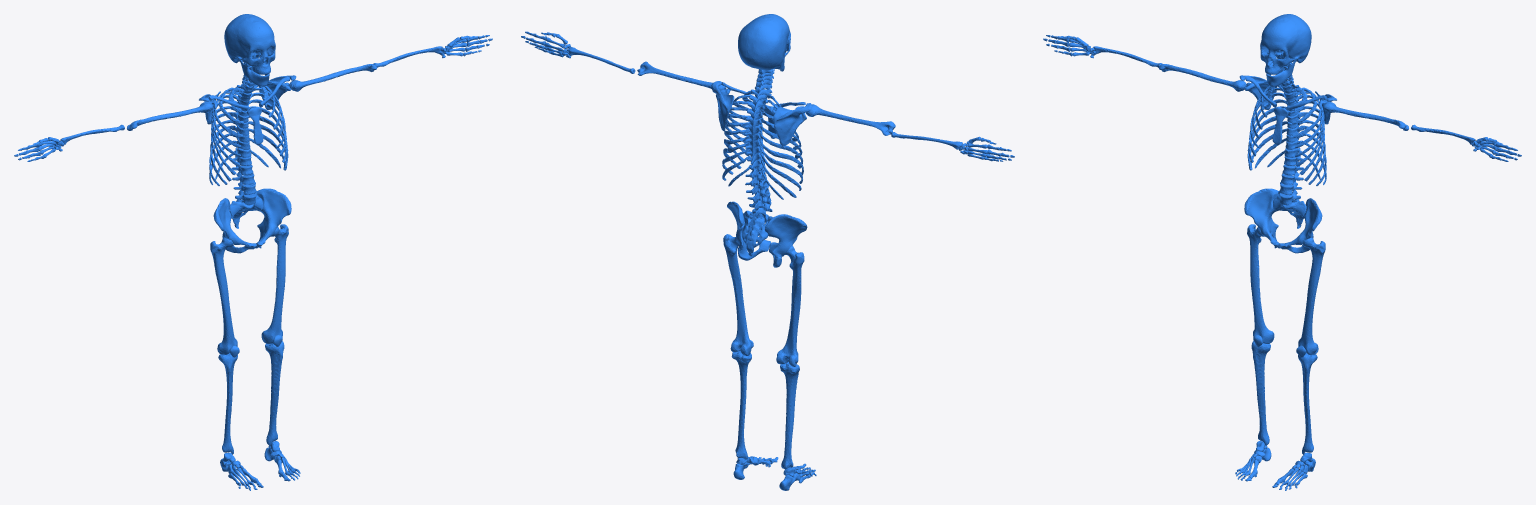
File: standard_blue_female.obj
3 views of the same model, side by side, from view 1: azimuth 30°, elevation 25°; view 2: azimuth 150°, elevation 25°; view 3: azimuth 330°, elevation 25° (orthographic). The views are drawn at different scales.
Parts seen in each view (by area): view 1: Head, Femur_R, Femur_L, Pelvis_L, Tibia_L, Pelvis_R, Tibia_R, Humerus_L, Humerus_R; view 2: Head, Femur_R, Femur_L, Pelvis_R, Tibia_R, Scapula_R, Tibia_L, Sacrum, Pelvis_L, Humerus_R, Scapula_L, Humerus_L; view 3: Head, Femur_L, Femur_R, Pelvis_R, Tibia_R, Pelvis_L, Tibia_L, Humerus_R, Humerus_L.
Boxes of the visible parts, <box> form: Head: <box>224,14,275,74</box>; Femur_R: <box>210,237,237,354</box>; Femur_L: <box>261,224,288,343</box>; Pelvis_L: <box>255,188,291,248</box>; Tibia_L: <box>265,341,284,445</box>; Pelvis_R: <box>213,198,256,253</box>; Tibia_R: <box>218,353,237,454</box>; Humerus_L: <box>289,64,376,91</box>; Humerus_R: <box>127,101,212,130</box>; Head: <box>738,14,790,70</box>; Femur_R: <box>776,245,804,366</box>; Femur_L: <box>723,234,751,355</box>; Pelvis_R: <box>764,214,807,267</box>; Tibia_R: <box>780,361,799,469</box>; Scapula_R: <box>773,103,811,145</box>; Tibia_L: <box>731,350,751,459</box>; Sacrum: <box>742,210,772,256</box>; Pelvis_L: <box>727,201,771,260</box>; Humerus_R: <box>805,104,895,135</box>; Scapula_L: <box>711,81,734,131</box>; Humerus_L: <box>637,61,726,93</box>; Head: <box>1260,14,1311,74</box>; Femur_L: <box>1298,237,1325,354</box>; Femur_R: <box>1247,224,1274,343</box>; Pelvis_R: <box>1244,188,1280,248</box>; Tibia_R: <box>1251,341,1270,445</box>; Pelvis_L: <box>1279,198,1322,253</box>; Tibia_L: <box>1298,353,1317,454</box>; Humerus_R: <box>1159,64,1246,91</box>; Humerus_L: <box>1323,101,1408,130</box>.
Bounding box in the file's own units: 1.77 × 1.59 × 0.2621.
